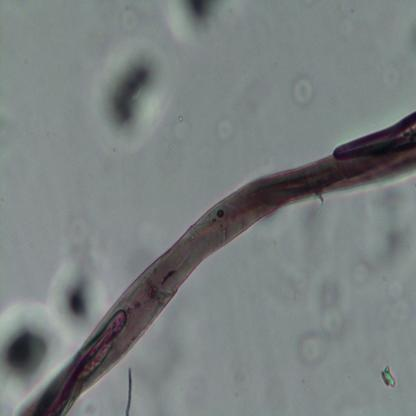Background material: (93, 36, 174, 150), (340, 184, 413, 288), (0, 304, 61, 383), (284, 199, 327, 300), (47, 266, 101, 340), (51, 200, 105, 266), (163, 1, 241, 45), (296, 303, 345, 360), (138, 333, 184, 389), (318, 263, 346, 314), (376, 57, 406, 91), (290, 74, 314, 108), (119, 365, 134, 416), (213, 116, 240, 144), (118, 6, 140, 40), (335, 12, 357, 38), (378, 363, 397, 391), (173, 111, 188, 125)
Cotton: (12, 109, 416, 415)
